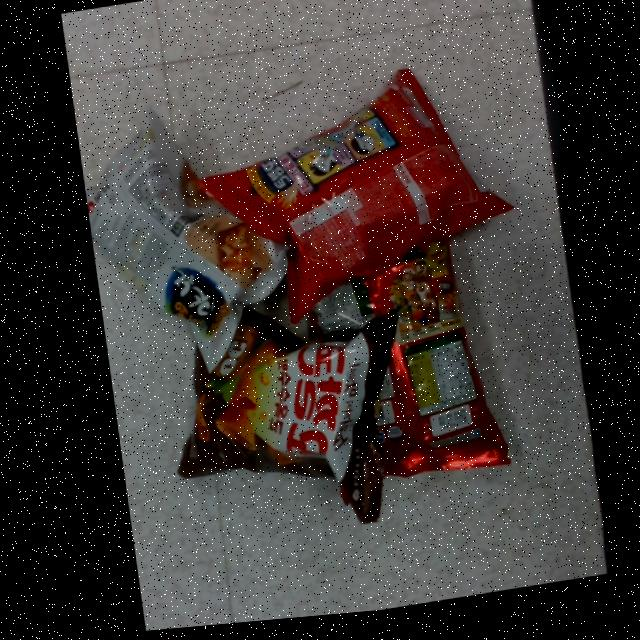bongji: (197, 75, 510, 326), (82, 110, 284, 372), (171, 303, 391, 530), (297, 248, 504, 487)
